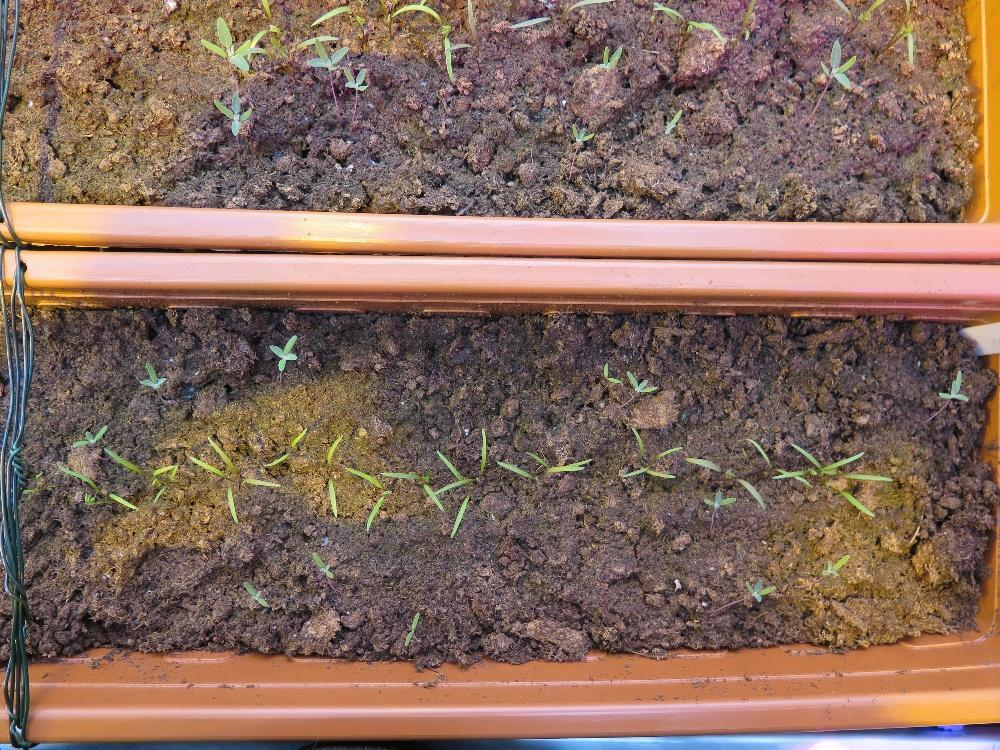weed: (818, 36, 856, 89), (212, 89, 251, 136), (266, 333, 298, 373), (936, 365, 968, 403), (137, 357, 167, 393), (69, 422, 107, 447), (624, 368, 658, 393), (818, 551, 850, 576), (241, 579, 267, 608), (744, 577, 774, 602), (342, 63, 368, 91), (701, 486, 735, 507), (597, 43, 622, 71), (310, 548, 333, 577), (402, 609, 420, 646), (662, 107, 683, 134), (570, 120, 594, 142), (601, 360, 622, 385)
